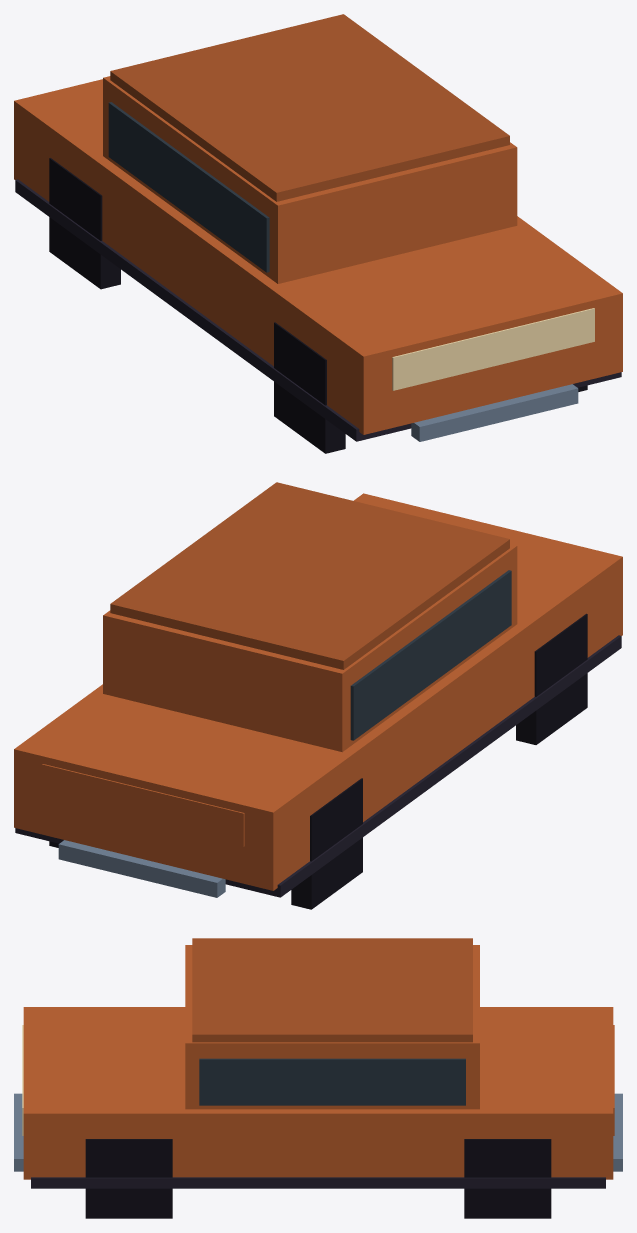
File: sedan.obj
3 renders of one model, top to bottom at view 1: azimuth 30°, elevation 25°; view 2: azimuth 150°, elevation 25°; view 3: azimuth 270°, elevation 25°, orthographic. The views are drawn at different scales.
Parts seen in each view (by area): view 1: sedan; view 2: sedan; view 3: sedan.
Part boxes in pixels (x1=…): sedan: x1=14, y1=14, x2=622, y2=453; sedan: x1=14, y1=482, x2=622, y2=909; sedan: x1=14, y1=938, x2=622, y2=1218.
Bounding box in the file's own units: 1.84 × 1.4 × 4.34.
